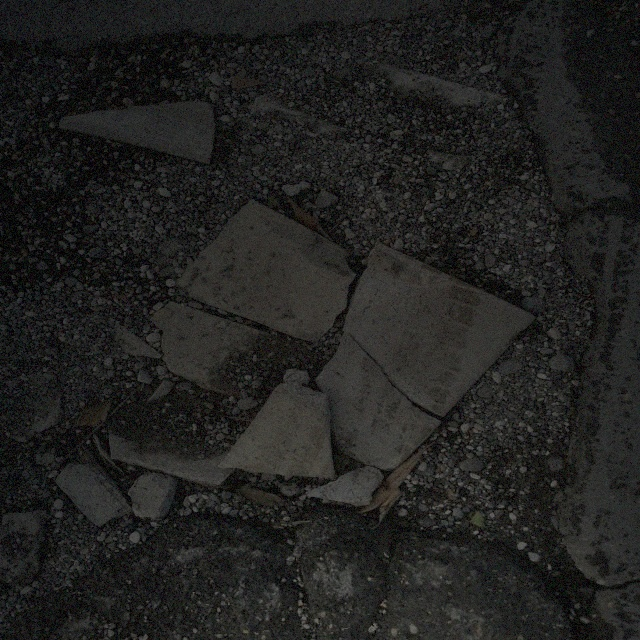pothole: (501, 430, 593, 616)
